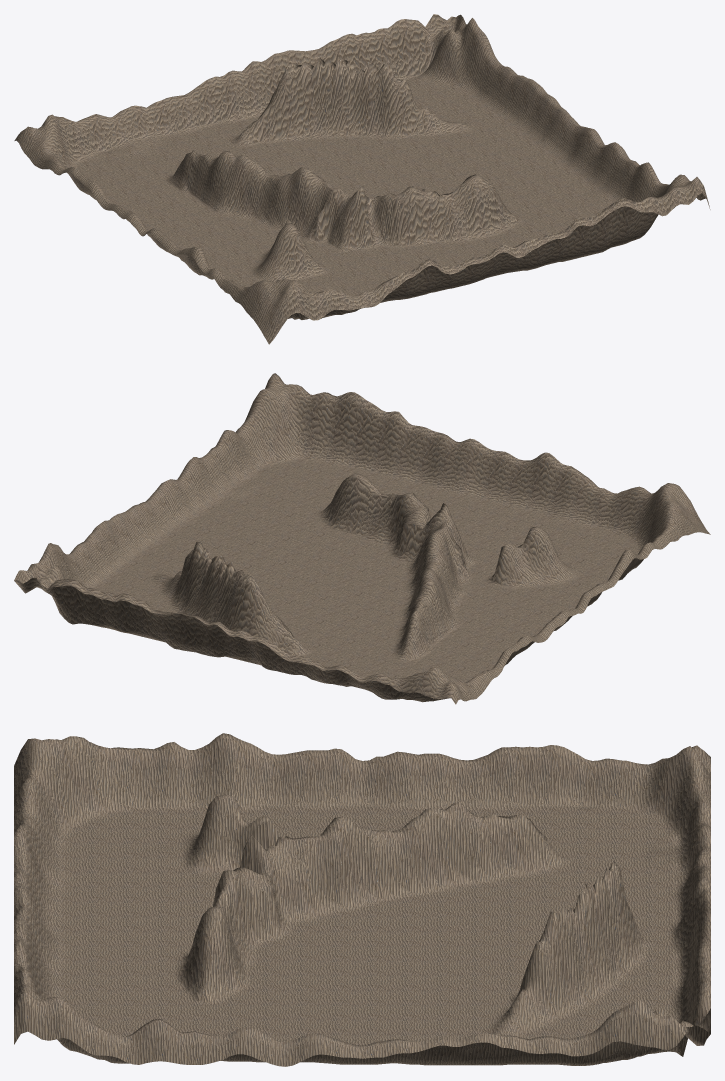
File: Map.fbx
The picture shows the model from 3 angles, top to bottom: view 1: azimuth 30°, elevation 25°; view 2: azimuth 150°, elevation 25°; view 3: azimuth 270°, elevation 25°; orthographic projection. The views are drawn at different scales.
Parts seen in each view (by area): view 1: pPlane1; view 2: pPlane1; view 3: pPlane1.
Boxes of the visible parts, x1,y1,x2,y2 form: pPlane1: (14, 14, 710, 344); pPlane1: (14, 373, 710, 704); pPlane1: (14, 733, 710, 1066).
Size of the model in its own units: 40000 by 6235 by 40000.
Materials: 1 (1 with a texture image).
